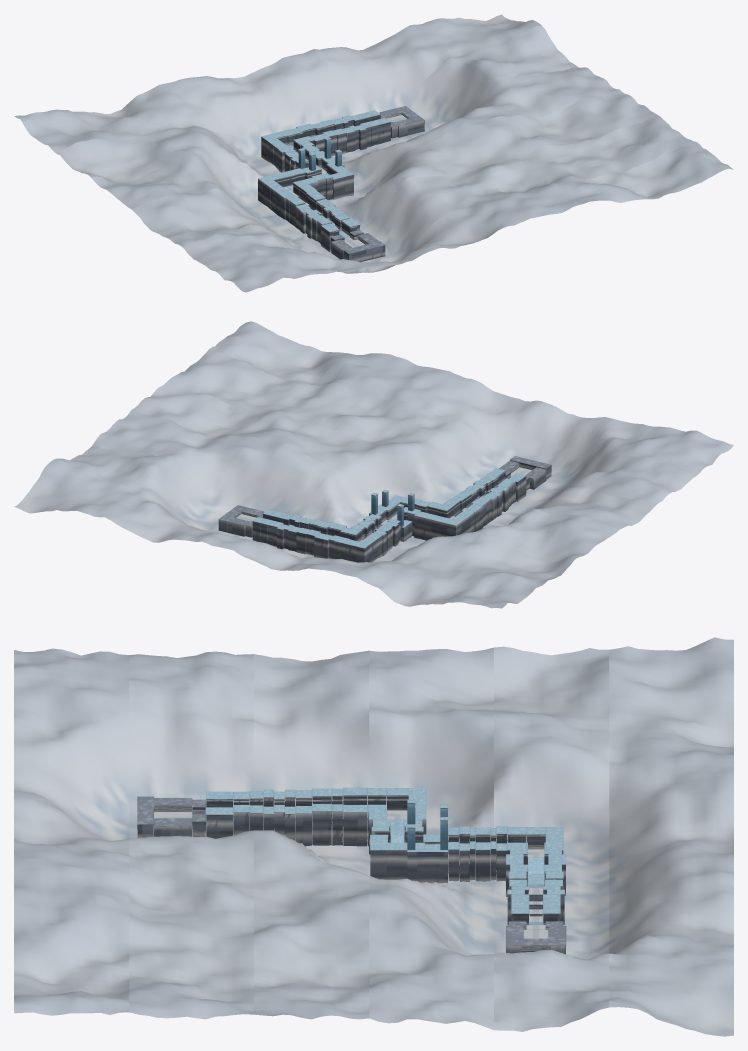
Rendered from ice_palace_terrain.glb.
The picture shows the model from 3 angles, top to bottom: view 1: azimuth 30°, elevation 25°; view 2: azimuth 150°, elevation 25°; view 3: azimuth 270°, elevation 25°; orthographic projection. The views are drawn at different scales.
Parts seen in each view (by area): view 1: backdrop_5, backdrop_1, backdrop_2, backdrop_4, backdrop_0, backdrop_3, terrain_H, terrain_I, terrain_E, terrain_F, terrain_B, terrain_D (+4 smaller); view 2: backdrop_0, backdrop_1, backdrop_3, backdrop_2, backdrop_5, backdrop_4, terrain_H, terrain_E, terrain_I, terrain_G, terrain_D, terrain_F (+4 smaller); view 3: backdrop_5, backdrop_0, backdrop_1, backdrop_3, backdrop_2, backdrop_4, terrain_F, terrain_G, terrain_D, terrain_H, terrain_B, terrain_E (+4 smaller).
Boxes of the visible parts, x1,y1,x2,y2 form: backdrop_5: (14,14,541,151); backdrop_1: (169,114,696,272); backdrop_2: (132,89,656,244); backdrop_4: (54,25,578,182); backdrop_0: (209,142,733,292); backdrop_3: (91,66,618,217); terrain_H: (261,120,346,164); terrain_I: (330,110,390,152); terrain_E: (258,165,332,209); terrain_F: (298,137,353,199); terrain_B: (312,210,363,252); terrain_D: (271,183,325,226); backdrop_0: (209,321,733,479); backdrop_1: (169,349,696,510); backdrop_3: (91,410,618,561); backdrop_2: (132,380,656,529); backdrop_5: (14,459,541,608); backdrop_4: (55,446,578,585); terrain_H: (296,519,376,562); terrain_E: (404,499,468,540); terrain_I: (252,509,312,551); terrain_G: (346,514,400,558); terrain_D: (437,491,491,532); terrain_F: (369,490,414,541); backdrop_5: (609,637,733,1036); backdrop_0: (14,648,129,1015); backdrop_1: (129,651,253,1019); backdrop_3: (369,647,493,1029); backdrop_2: (254,650,369,1019); backdrop_4: (494,646,609,1031); terrain_F: (370,799,448,883); terrain_G: (448,826,526,881); terrain_D: (312,787,386,846); terrain_H: (506,827,566,908); terrain_B: (192,791,263,838); terrain_E: (368,788,426,854).
Size of the model in its own units: 637 by 68.17 by 525.
